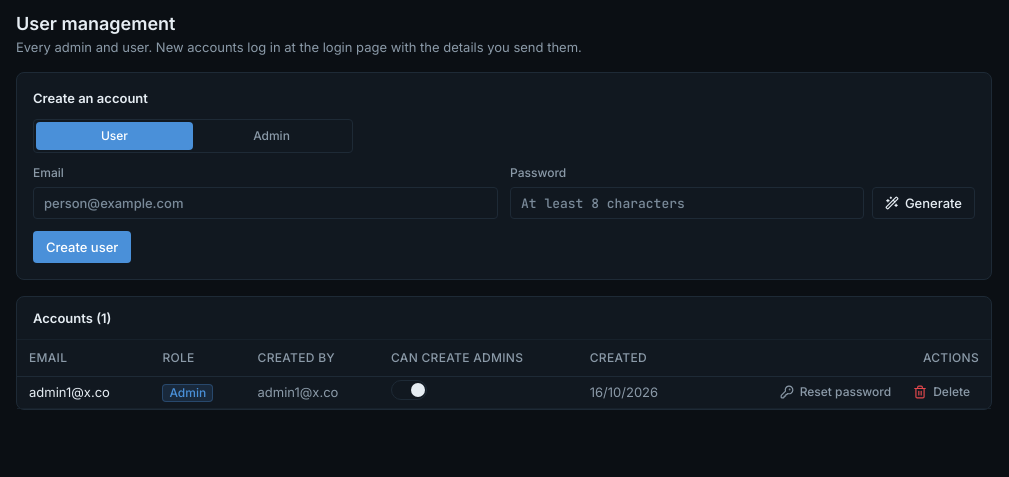
Scenario: UserManagementPage › puts the permission switch back if the server refuses
Click the switch named "admin1@x.co can create admins". click: [409, 390]
box: x1=391 y1=380 x2=427 y2=400
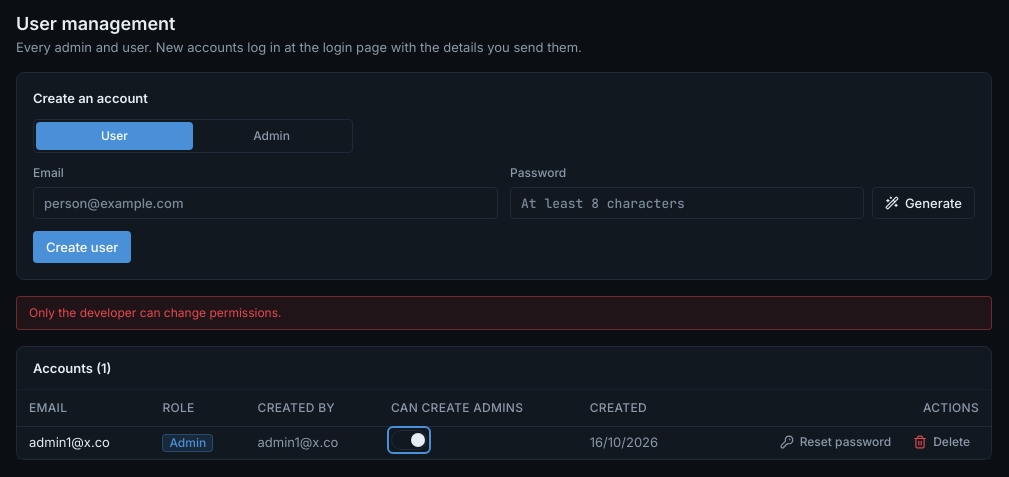
Result: the message reads "Only the developer can change permissions." at x1=29 y1=305 x2=282 y2=320
